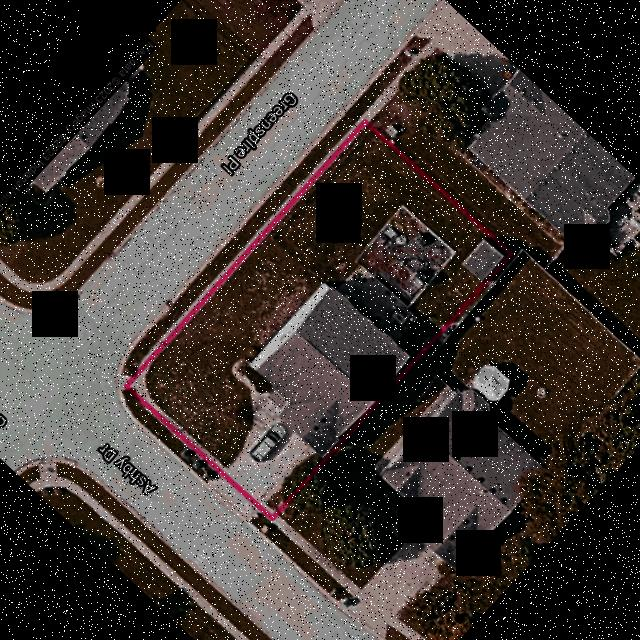Driveway: (225, 389, 315, 505)
Extra Driveway: (206, 478, 260, 520)
Extra Lawn: (122, 107, 362, 377), (250, 512, 272, 532)
Extra Sidewalk: (140, 116, 365, 367), (121, 374, 132, 389)
House: (250, 284, 409, 456)
Other: (338, 205, 456, 339), (122, 390, 223, 481), (462, 239, 505, 281)
Sidewalk: (130, 242, 261, 473), (232, 357, 260, 400), (264, 502, 275, 515)
